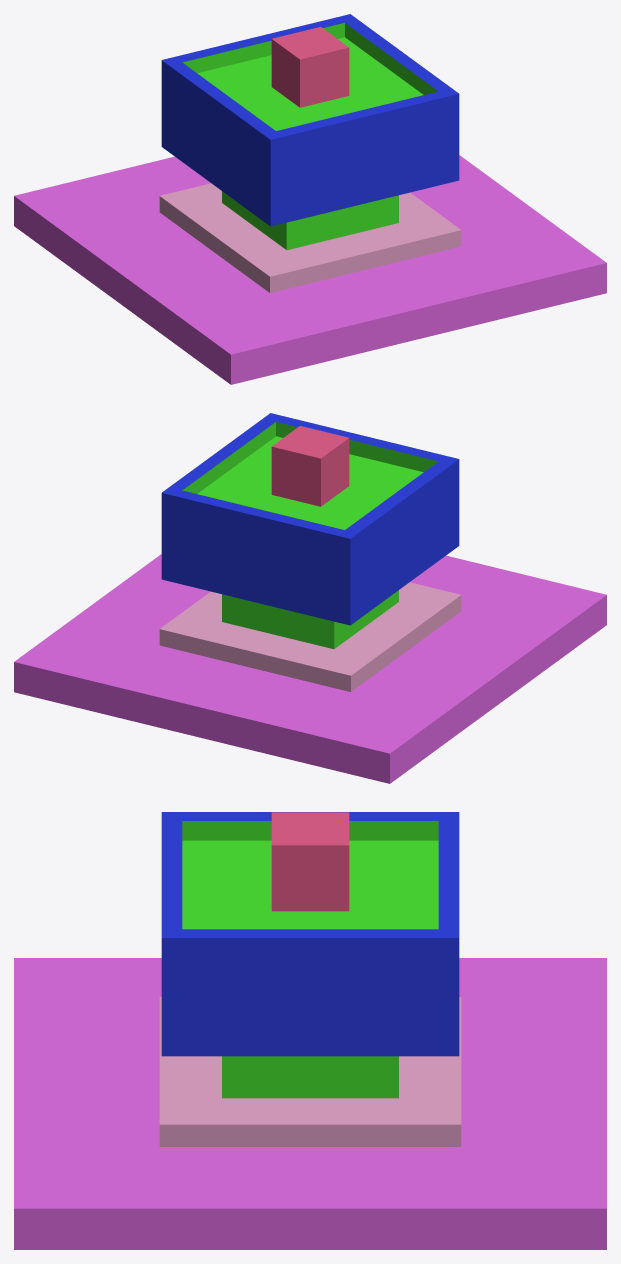
Rendered from rapidFire_Lv1.fbx.
3 renders of one model, top to bottom at view 1: azimuth 30°, elevation 25°; view 2: azimuth 150°, elevation 25°; view 3: azimuth 270°, elevation 25°, orthographic. The views are drawn at different scales.
Visible parts, largest first — view 1: Cube.002; view 2: Cube.002; view 3: Cube.002.
Part boxes in pixels (x1=…): Cube.002: x1=14, y1=14, x2=606, y2=384; Cube.002: x1=14, y1=413, x2=606, y2=783; Cube.002: x1=14, y1=812, x2=606, y2=1249.
Bounding box in the file's own units: 268 × 148 × 268.
